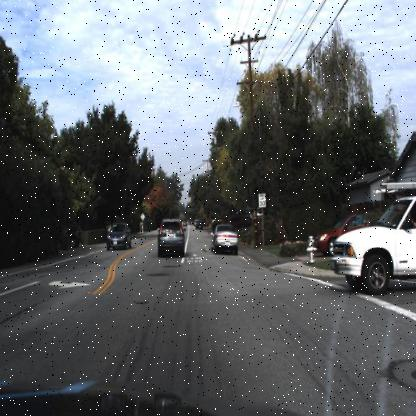car: (330, 181, 416, 291), (316, 205, 377, 254), (152, 217, 188, 262), (208, 221, 240, 258), (105, 218, 132, 249), (103, 222, 133, 249), (64, 219, 80, 250)
